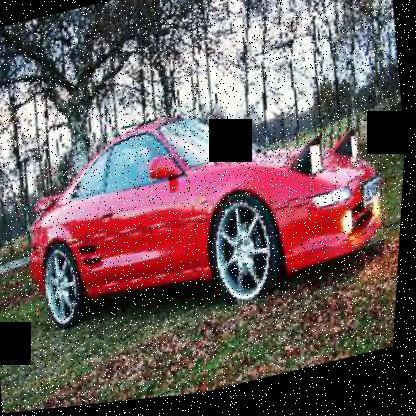not_emergency: (0, 55, 411, 368)
